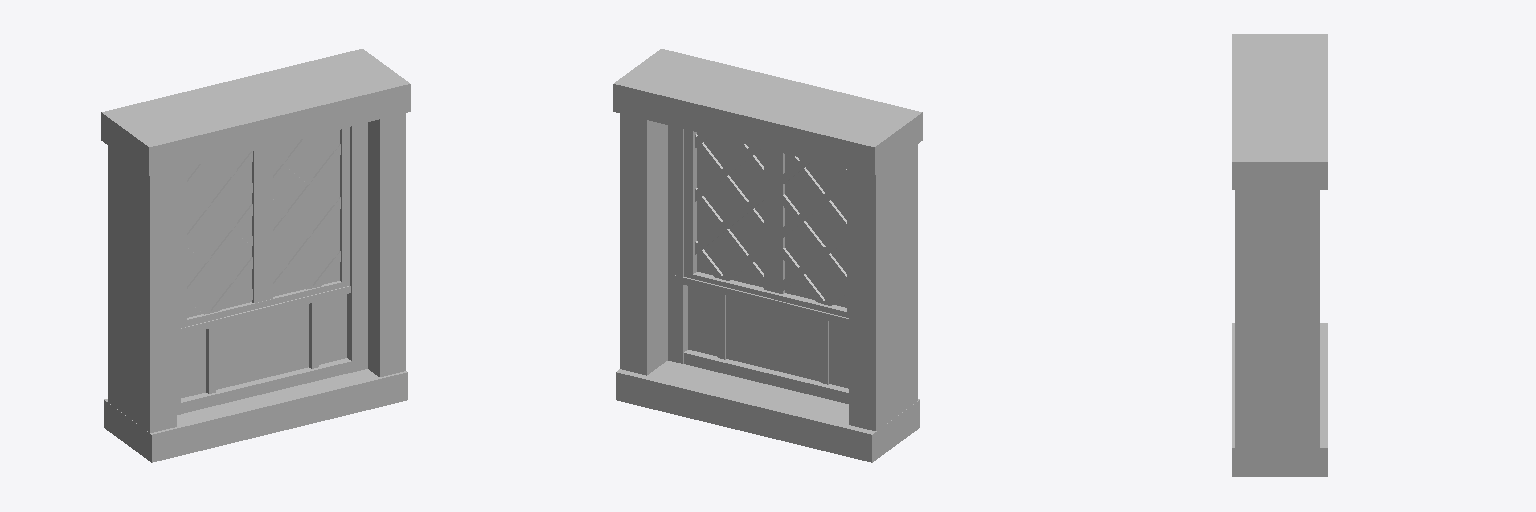
The model's file is Window_Wide_Flat3.obj.
3 views of the same model, side by side, from view 1: azimuth 30°, elevation 25°; view 2: azimuth 150°, elevation 25°; view 3: azimuth 270°, elevation 25° (orthographic).
Parts seen in each view (by area): view 1: Window_Wide_Flat3; view 2: Window_Wide_Flat3; view 3: Window_Wide_Flat3.
Boxes of the visible parts, <box> form: Window_Wide_Flat3: <box>101,49,410,462</box>; Window_Wide_Flat3: <box>613,49,922,462</box>; Window_Wide_Flat3: <box>1232,34,1327,476</box>.
Size of the model in its own units: 1.37 by 1.58 by 0.4357.